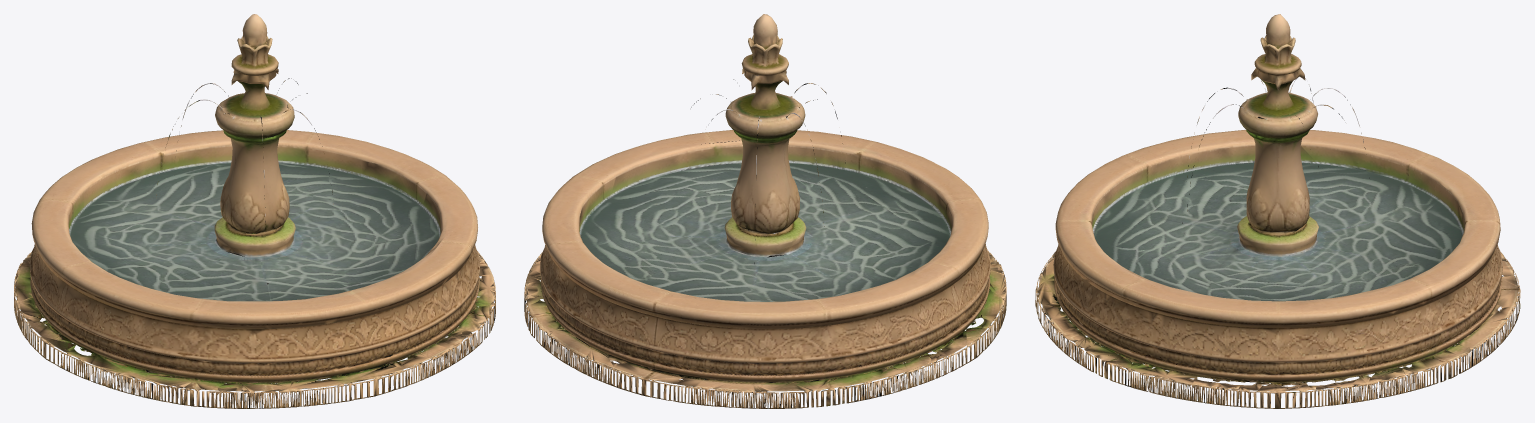
Rendered from Pineapple_Crown_Fount.fbx.
3 renders of one model, left to right at view 1: azimuth 30°, elevation 25°; view 2: azimuth 150°, elevation 25°; view 3: azimuth 270°, elevation 25°, orthographic.
Parts seen in each view (by area): view 1: Pineapple_Crown_Fount_LOD0; view 2: Pineapple_Crown_Fount_LOD0; view 3: Pineapple_Crown_Fount_LOD0.
Part boxes in pixels (left/top/right/bottom): Pineapple_Crown_Fount_LOD0: left=14, top=14, right=495, bottom=408; Pineapple_Crown_Fount_LOD0: left=524, top=14, right=1006, bottom=408; Pineapple_Crown_Fount_LOD0: left=1035, top=14, right=1520, bottom=408.
Size of what is drawn, in the model's own units: 1.9 by 1.26 by 1.9.
1 material, 1 textured.
